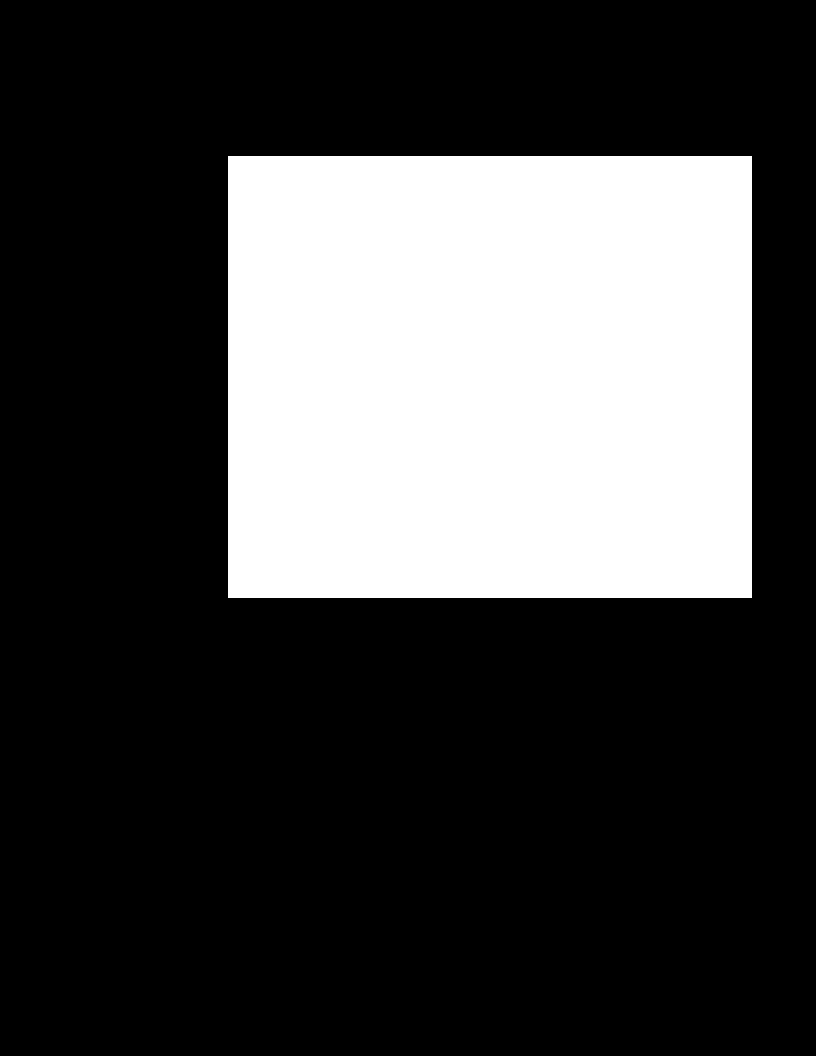table: (228, 156, 751, 597)
